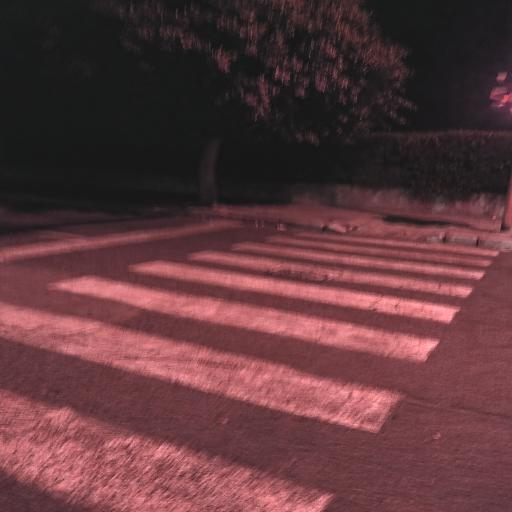crosswalk: (38, 256, 464, 368)
